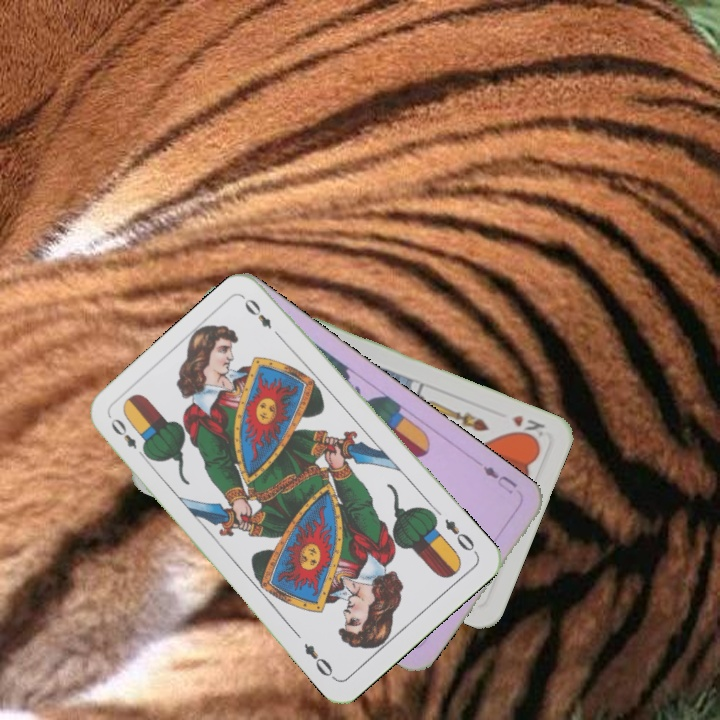EO: (106, 414, 150, 462), (440, 514, 480, 557)
EU: (474, 458, 520, 497)
HK: (507, 411, 548, 444)
